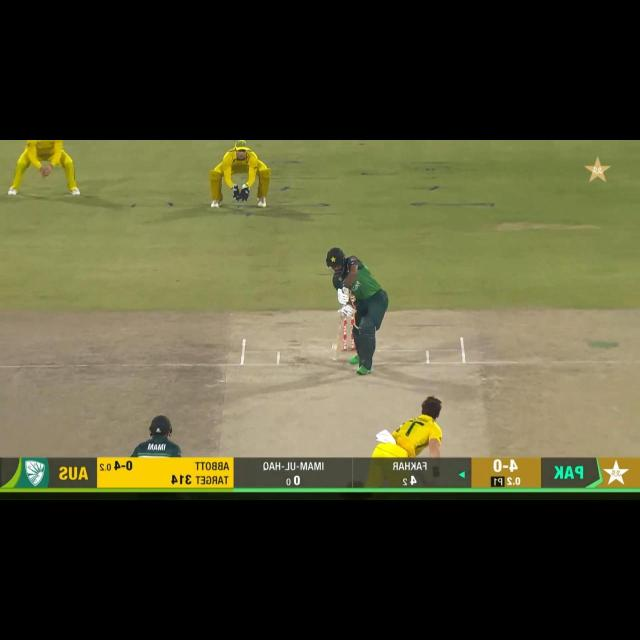bat: (331, 317, 347, 360)
toe: (330, 353, 341, 360)
